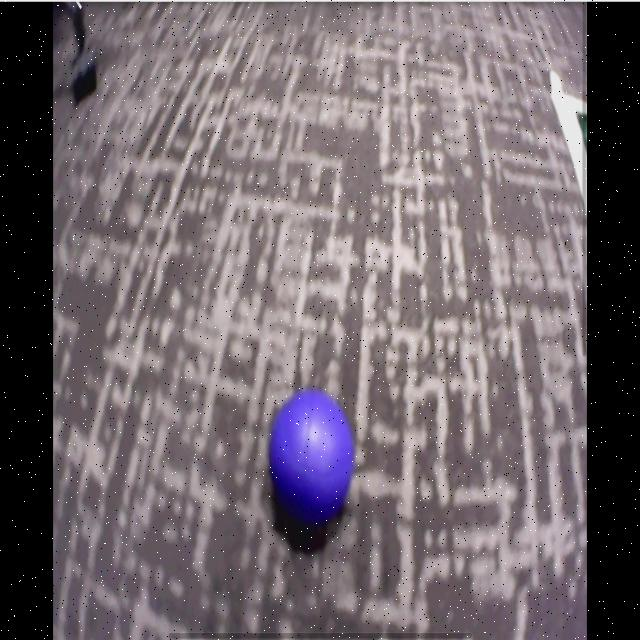ball: (269, 390, 354, 525)
